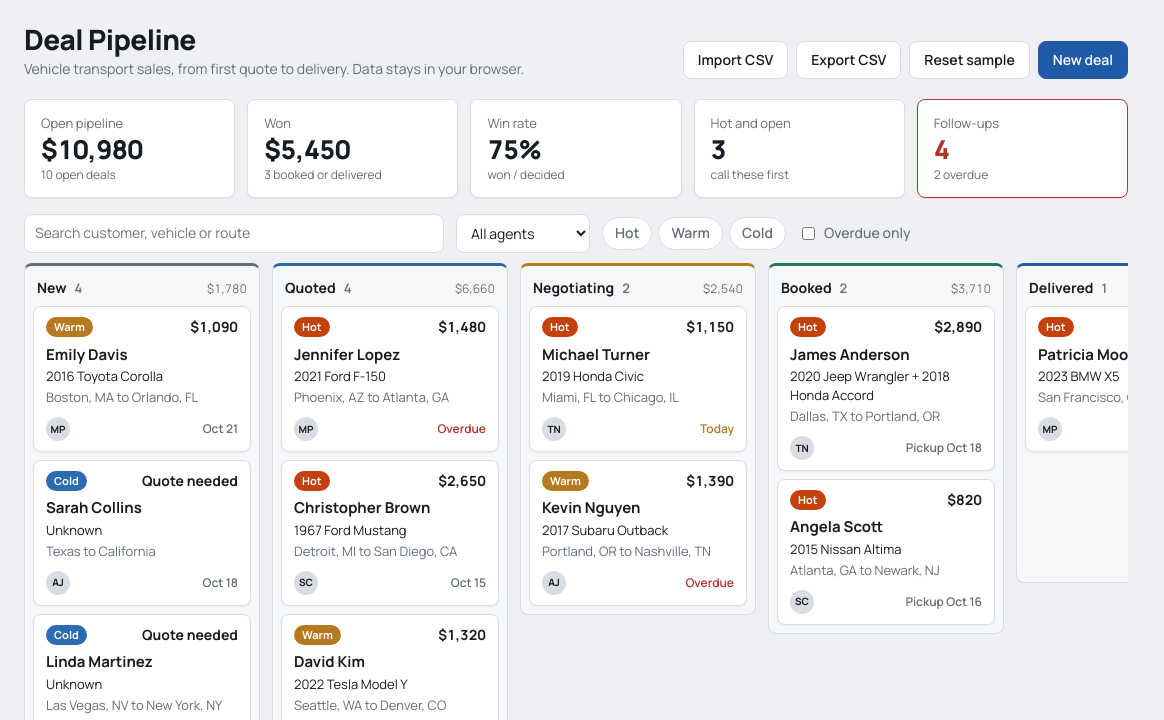
Scenario: App › renders the board with sample deals and filters them
Check: the heading "Deal Pipeline" is shown, box [24, 20, 196, 58]
In the search field named "Search deals": (234,233) [24, 214, 444, 253], type "mustang"
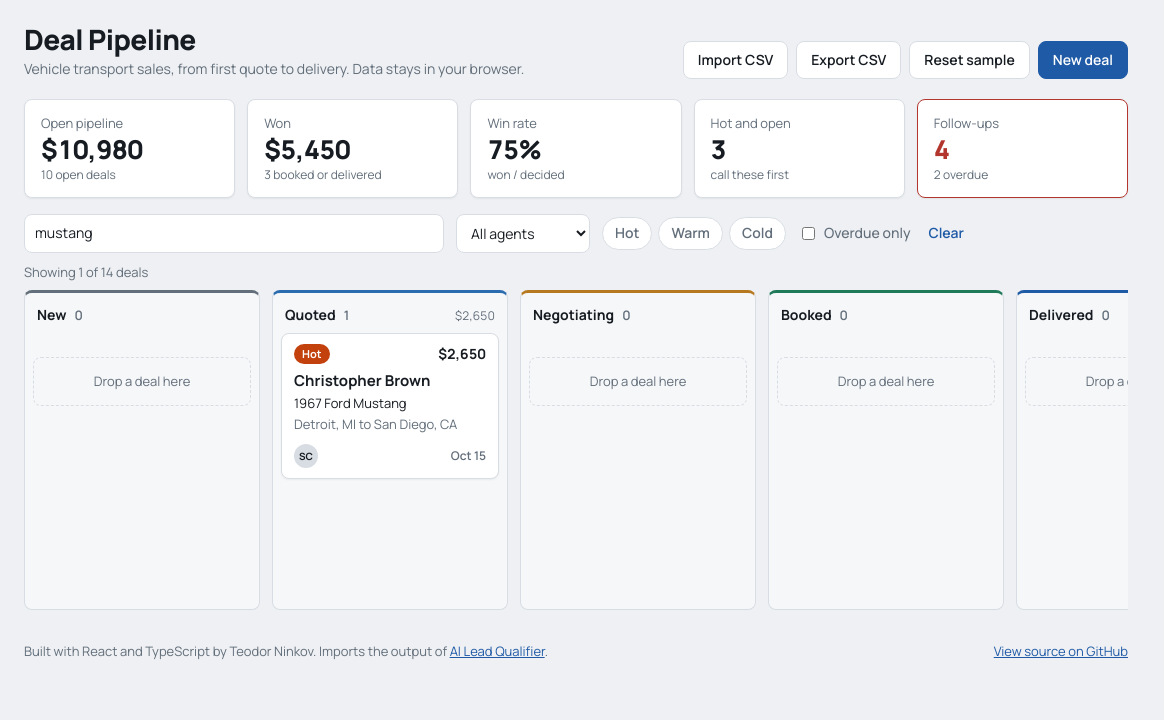
Check: the text "Showing 1 of 14 deals" is shown, box [24, 263, 148, 281]
Click the button "Clear": (946,233) [922, 219, 970, 248]
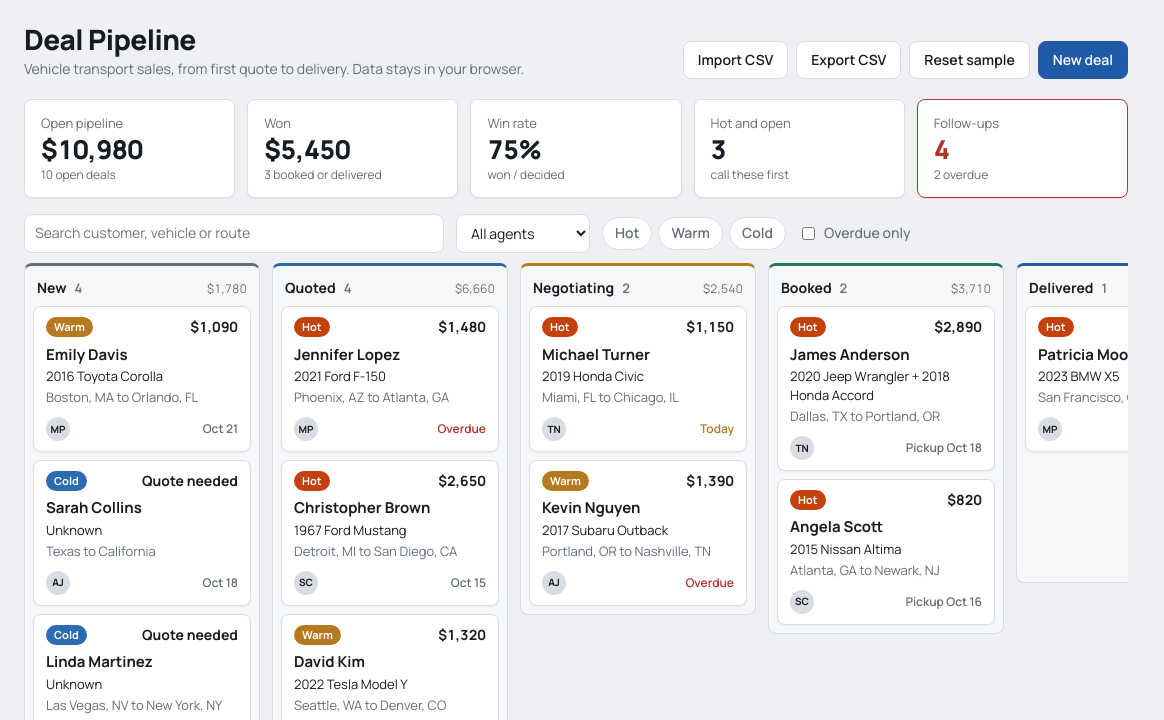
Check: the text "Showing" is gone
